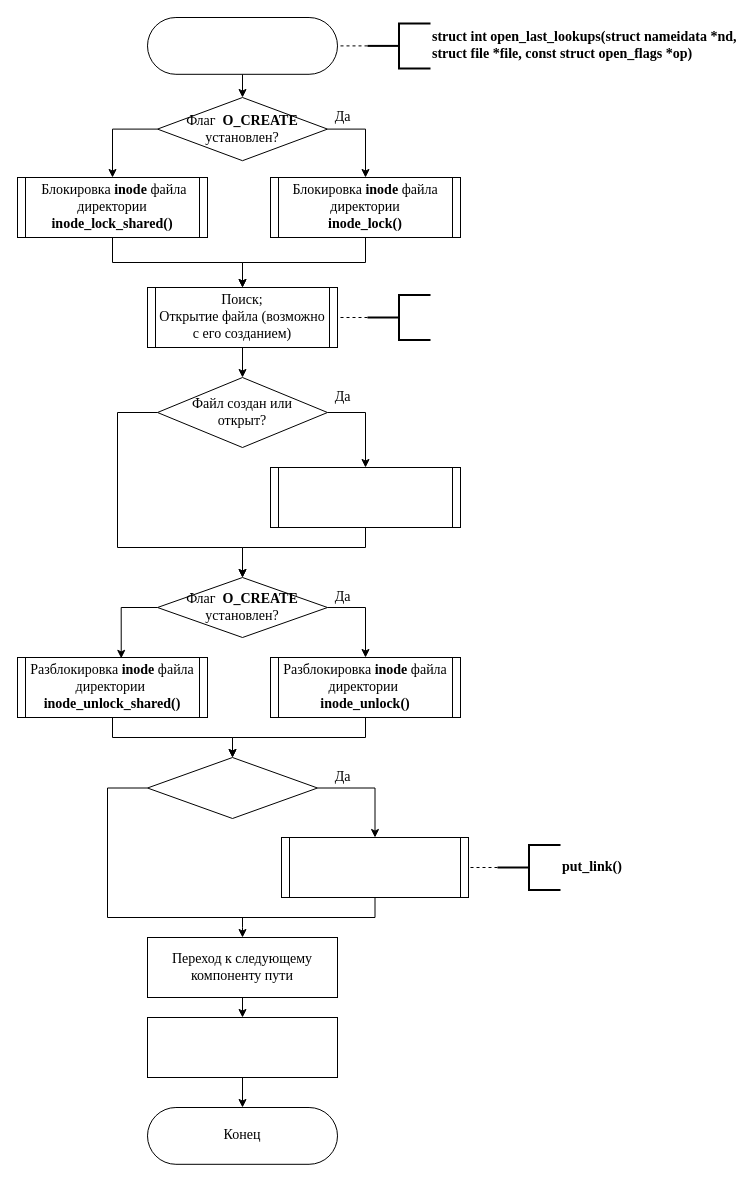
The diagram is 755 pixels wide and 1182 high, and some of its shapes have lost their labels. The box of each missing label's shape, as (x1, y1, x2, y2) in pixels:
lookup_open(): (366, 294, 431, 340)
Возврат указателя на имя файла: (146, 1016, 338, 1078)
Начало: (146, 16, 338, 74)
Нужно переходить по softlink ?: (146, 756, 318, 818)
Переход по символьной ссылке: (280, 836, 468, 898)
Уведомление файловой системы о создании файла: (270, 466, 460, 528)
